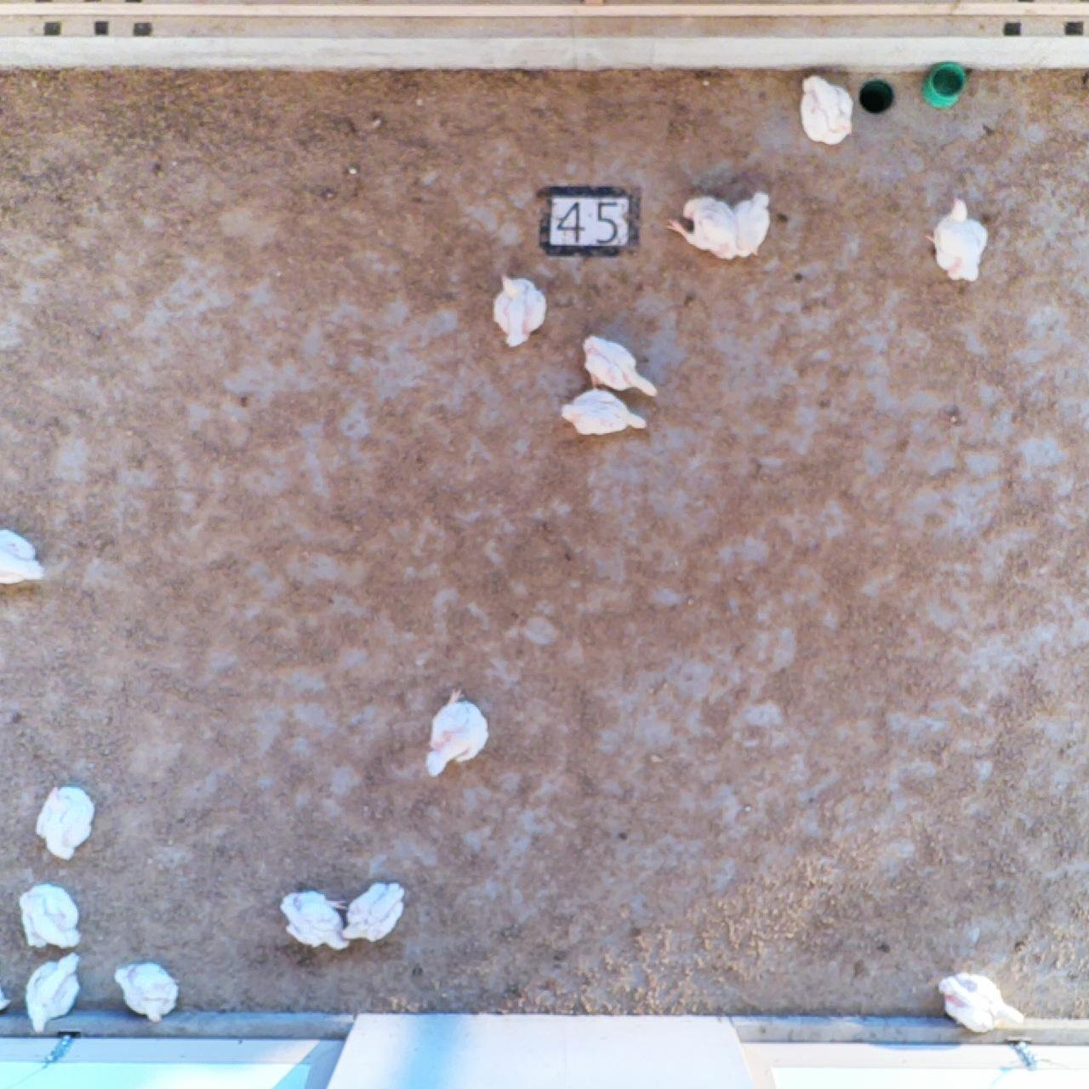chicken: (932, 972, 1023, 1035), (425, 684, 487, 776), (579, 334, 664, 397), (932, 198, 991, 280), (677, 195, 744, 265), (25, 953, 78, 1035), (31, 786, 93, 855), (280, 893, 351, 953), (343, 879, 406, 943), (496, 276, 550, 348), (799, 78, 856, 145), (565, 391, 651, 435), (20, 889, 78, 947), (117, 962, 175, 1018), (1, 524, 45, 586), (738, 192, 771, 257)
